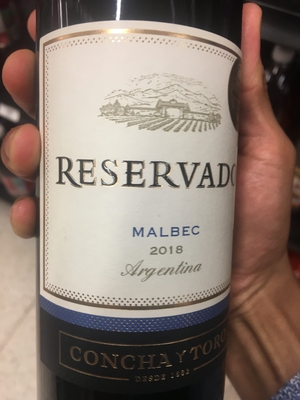reservado malbec: (30, 5, 241, 400)
